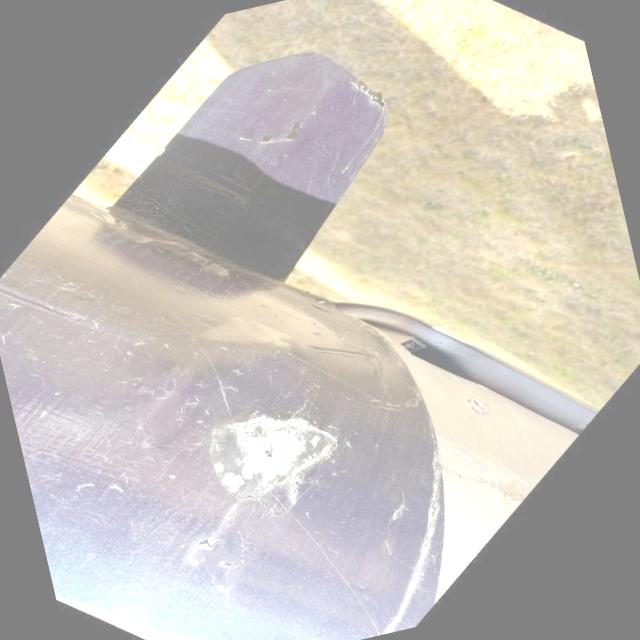crack: (178, 530, 251, 578)
dent: (182, 394, 378, 530)
